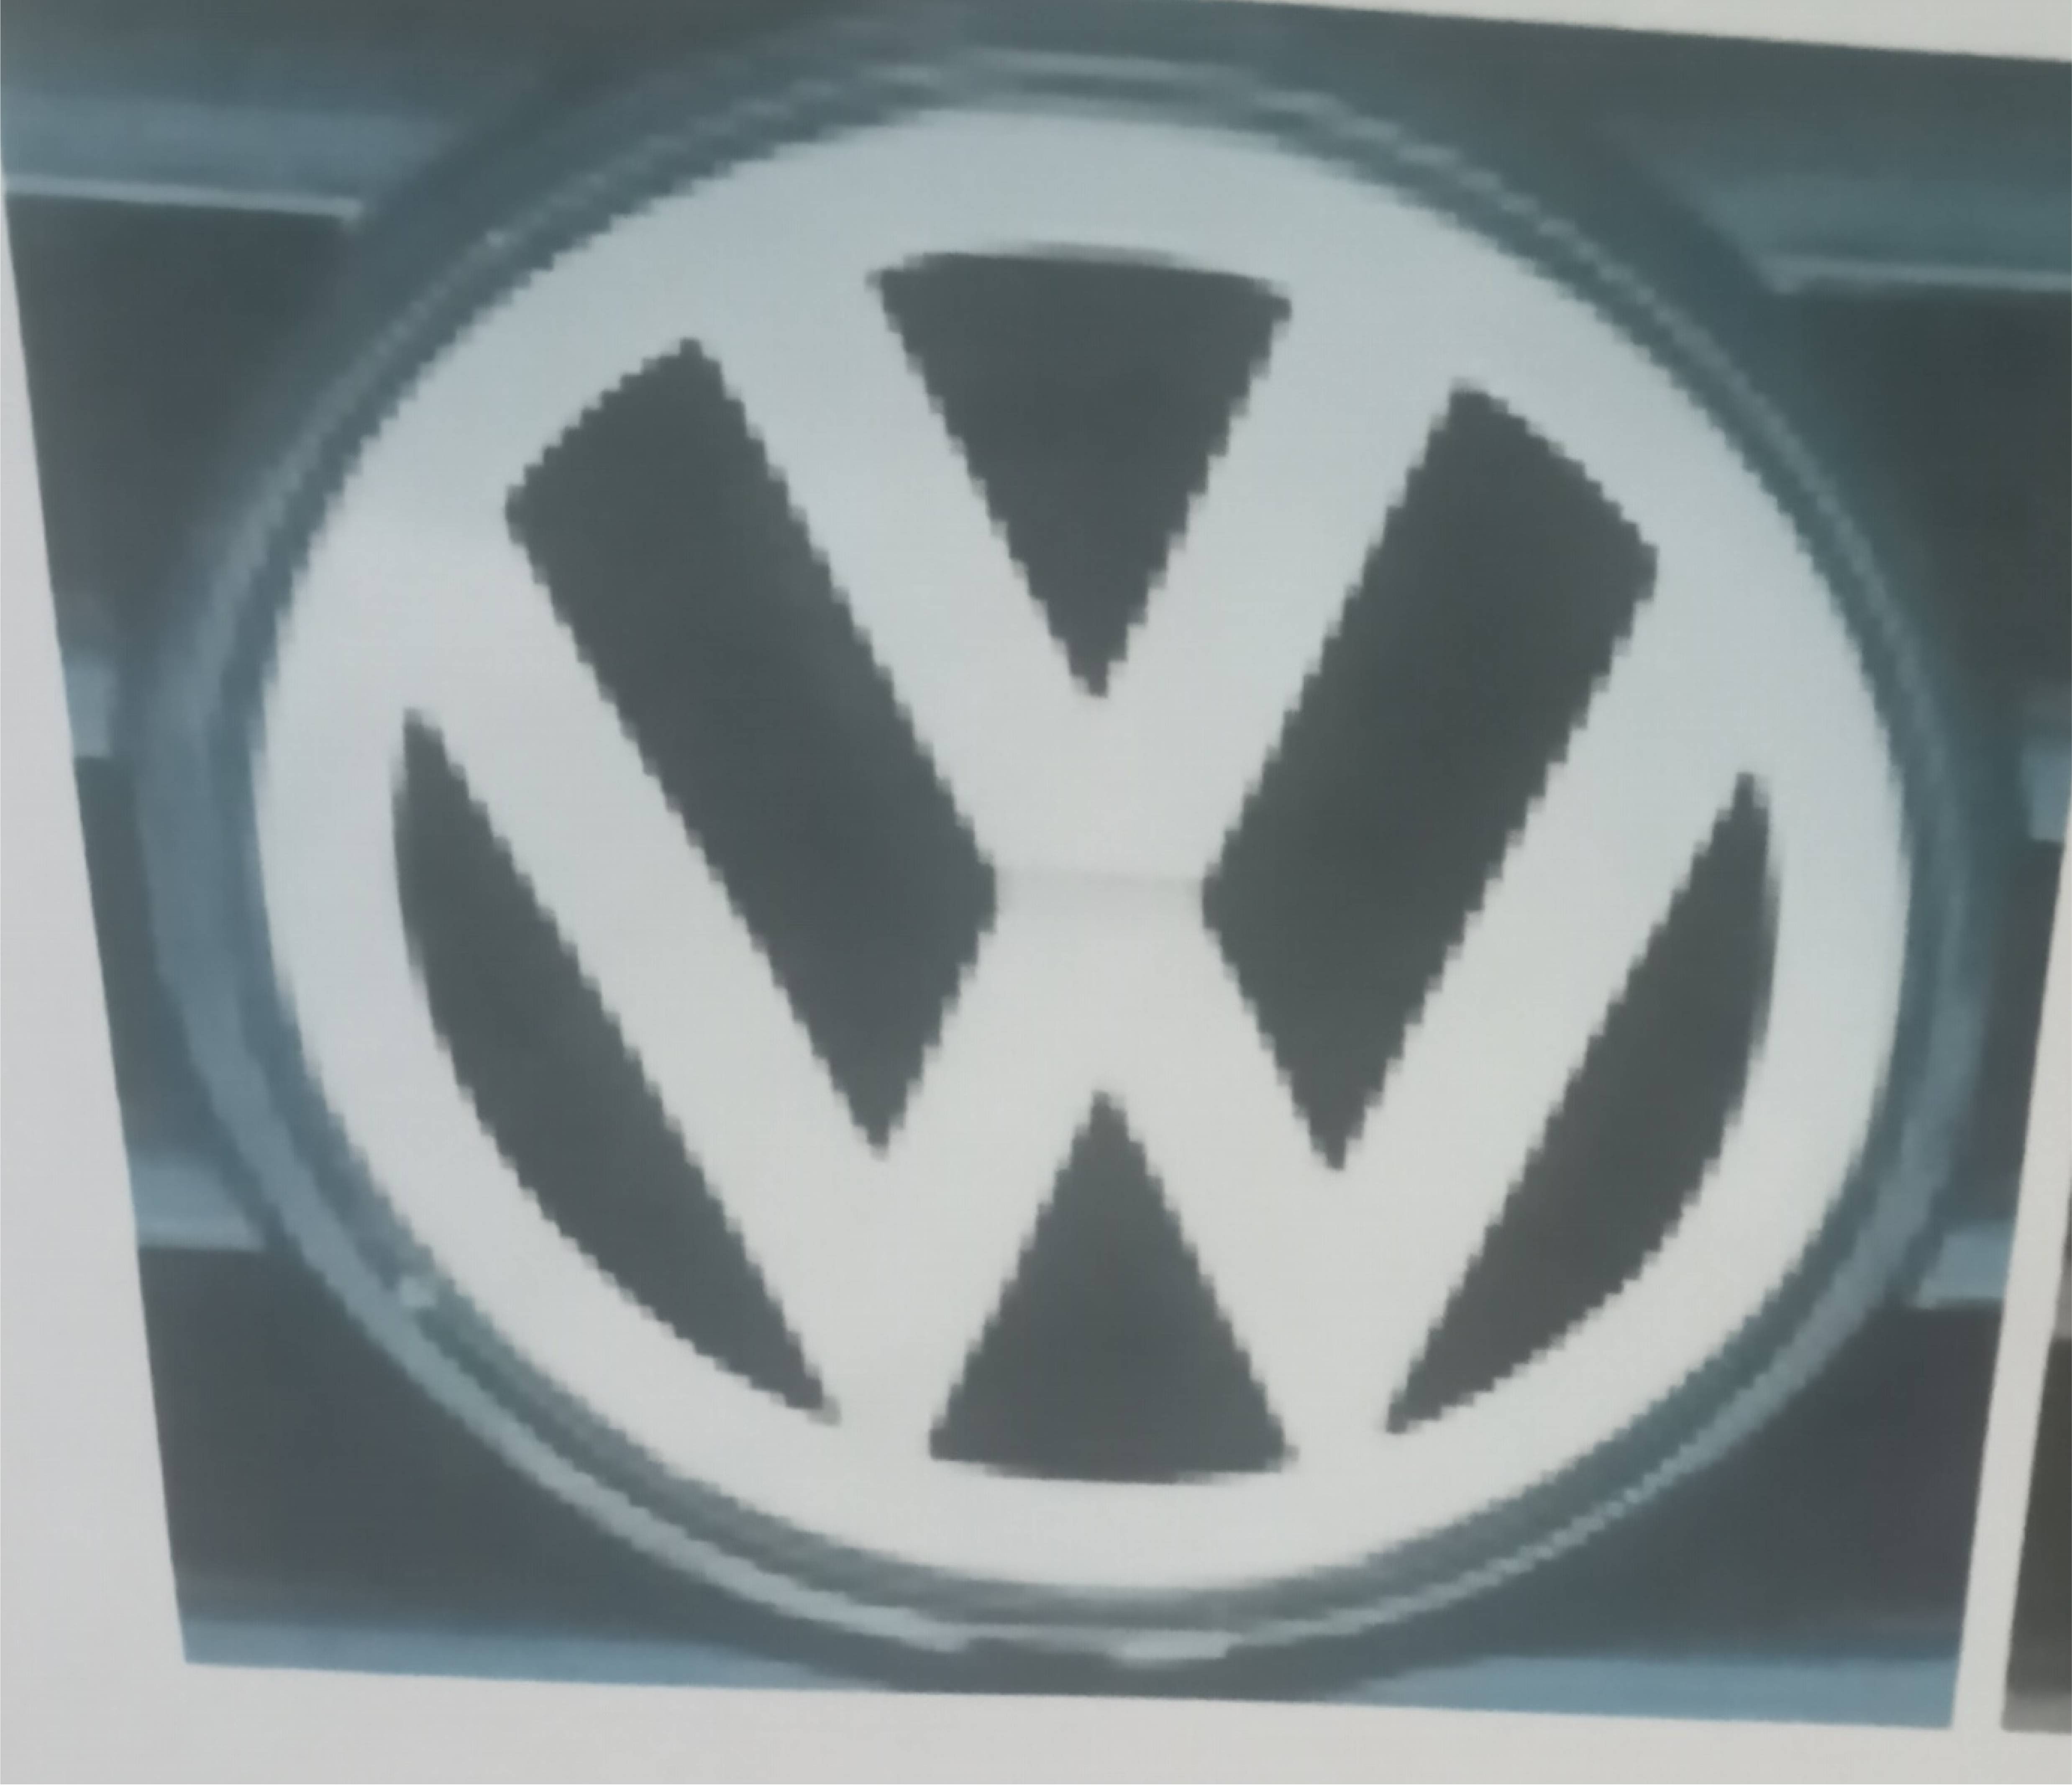Volkswagen: (210, 35, 1940, 1682)
